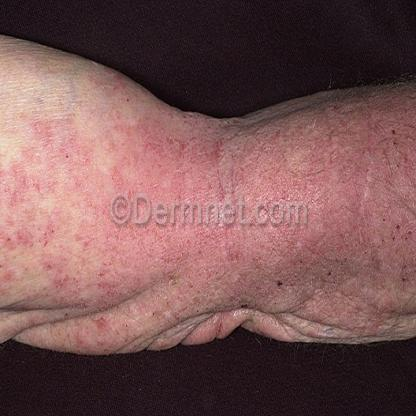Eczema: (136, 233, 390, 337)
